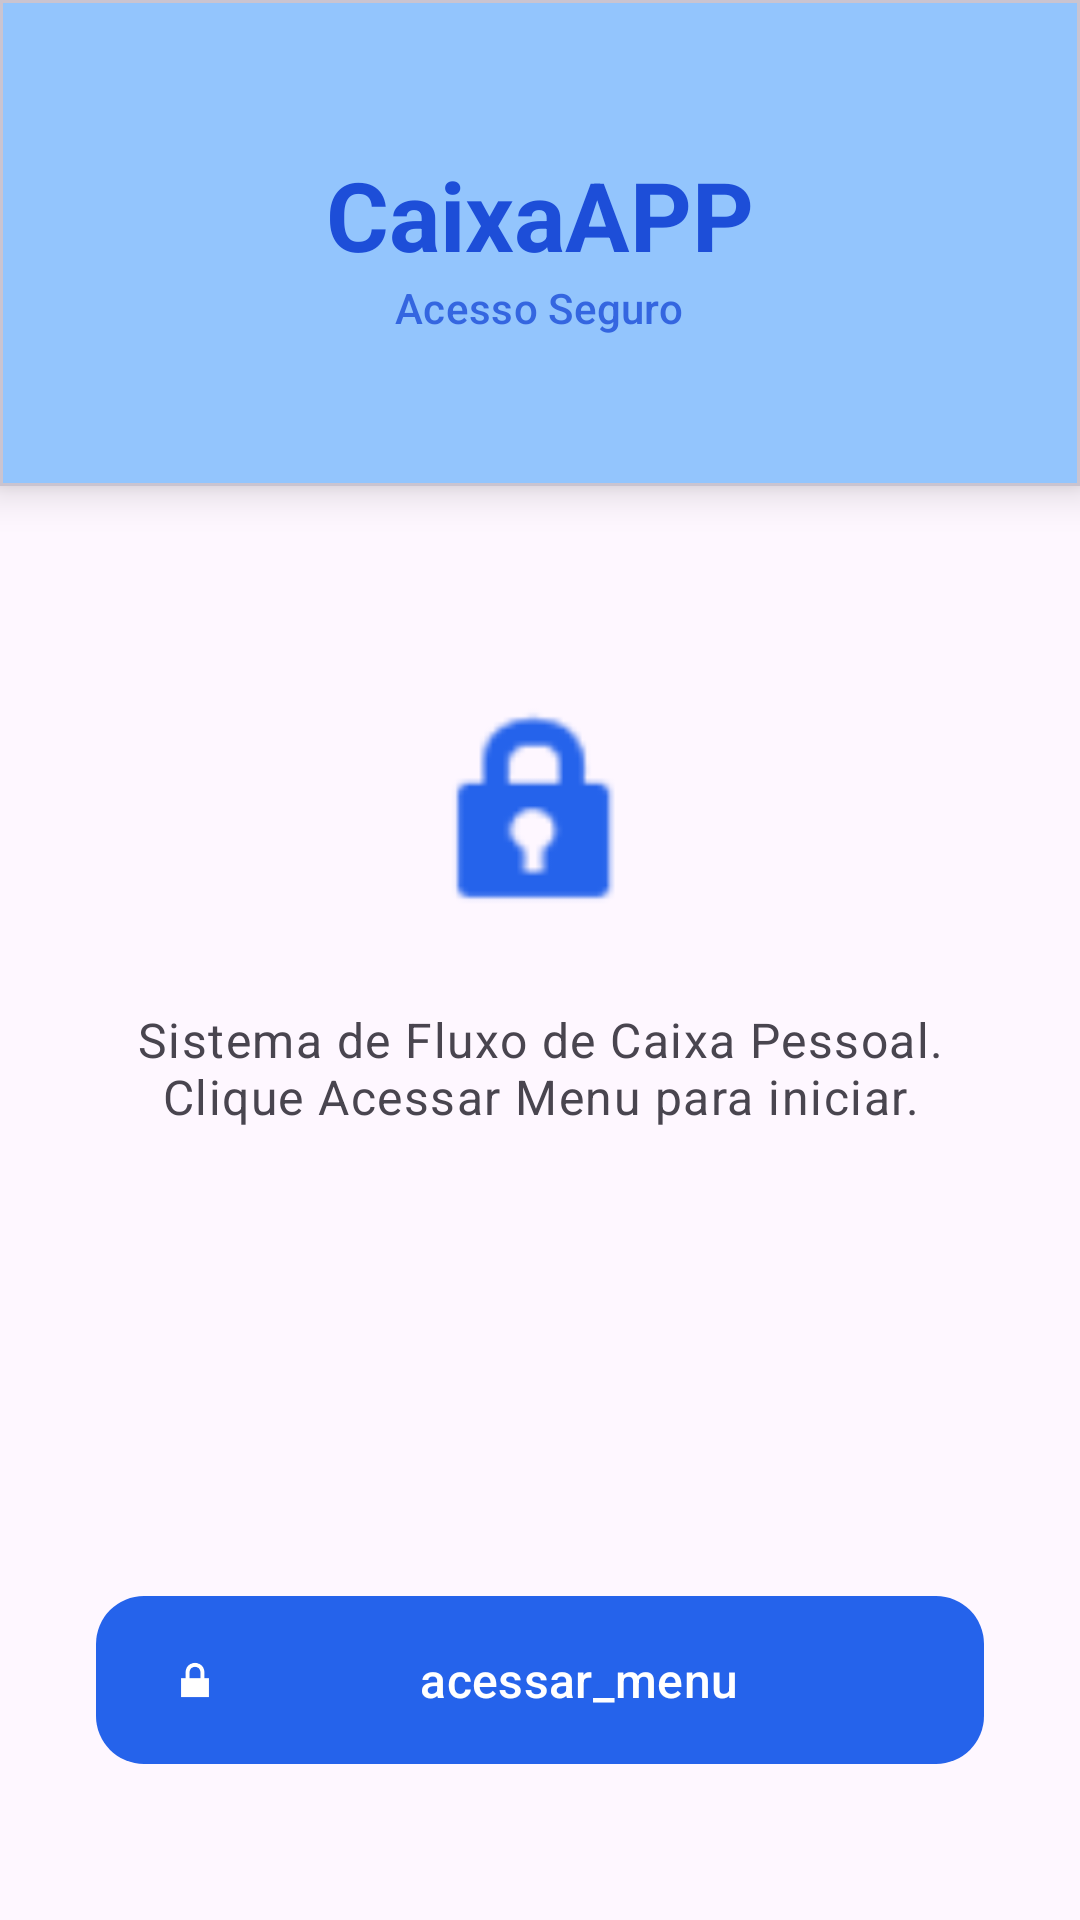

Where to tap for icons on this 1080×1920 app screen, as [x,y]:
lock idle: [534,807]
